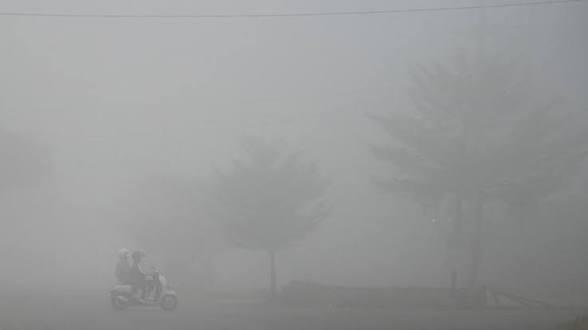Kendaraan: (110, 271, 178, 312)
Manusia: (130, 249, 159, 300), (114, 248, 139, 292)
Vegetasi: (347, 44, 578, 304), (201, 125, 343, 295)
